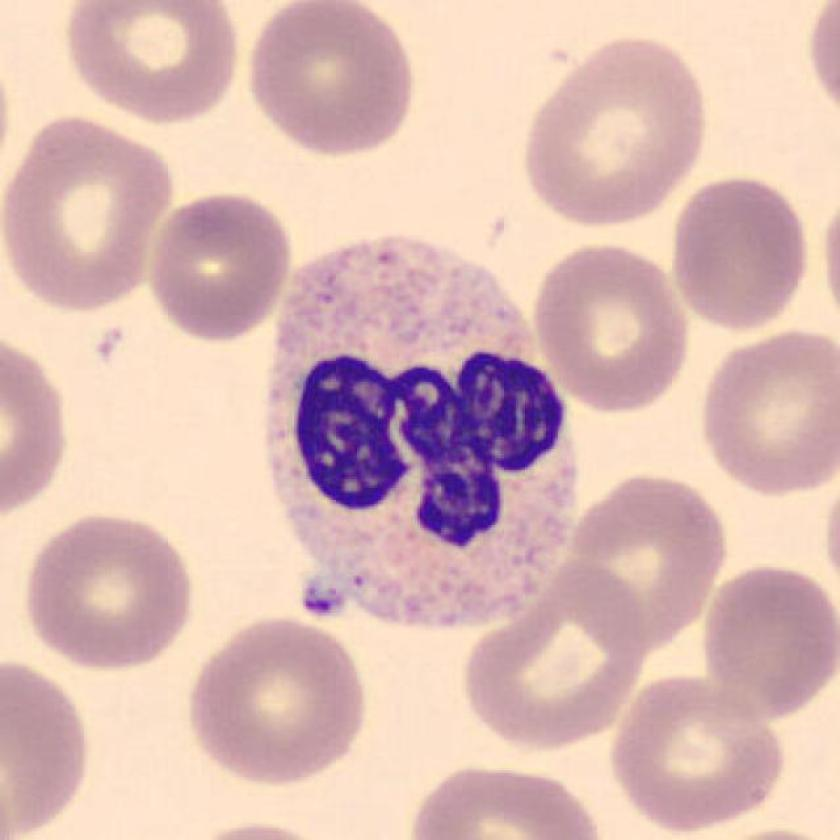neutrophil: (268, 240, 579, 630)
